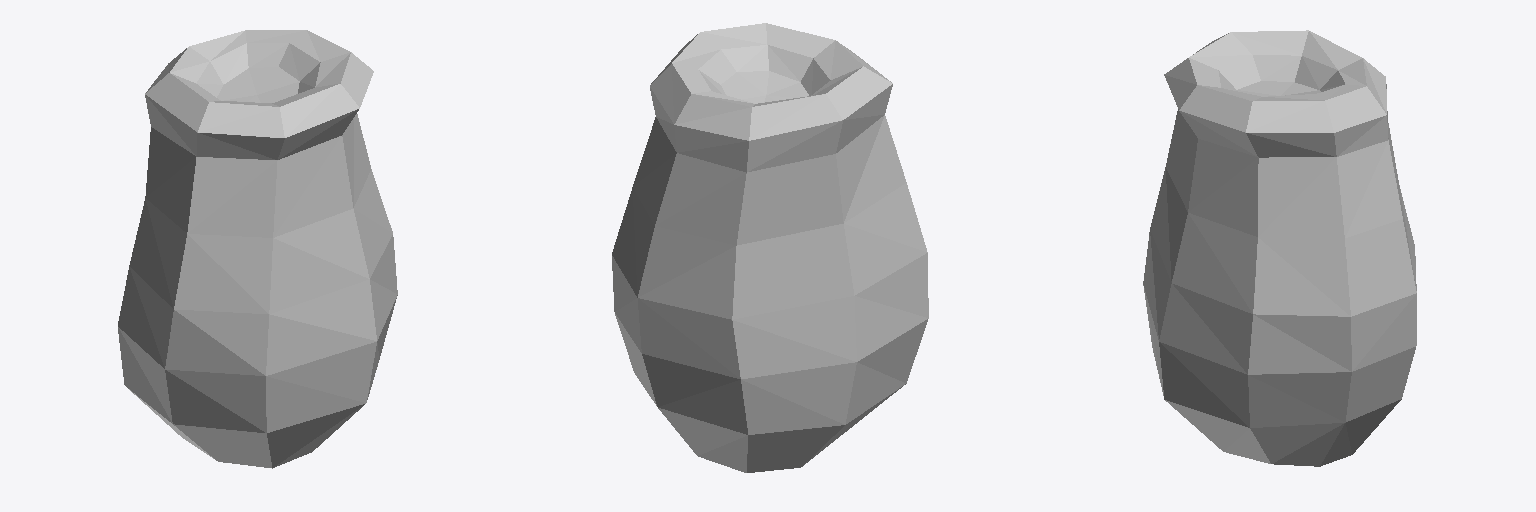
Rendered from Sponge_B_01_LOD1.obj.
3 renders of one model, left to right at view 1: azimuth 30°, elevation 25°; view 2: azimuth 150°, elevation 25°; view 3: azimuth 270°, elevation 25°, orthographic.
Parts seen in each view (by area): view 1: Sponge_B_01_LOD1_Cylinder.383; view 2: Sponge_B_01_LOD1_Cylinder.383; view 3: Sponge_B_01_LOD1_Cylinder.383.
Boxes of the visible parts, <box> form: Sponge_B_01_LOD1_Cylinder.383: <box>118,30,397,468</box>; Sponge_B_01_LOD1_Cylinder.383: <box>612,23,928,472</box>; Sponge_B_01_LOD1_Cylinder.383: <box>1143,30,1416,466</box>.
Size of the model in its own units: 2.46 by 3.63 by 2.32.